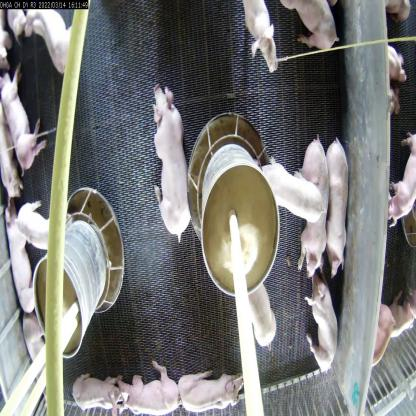Pig: (145, 76, 195, 245), (0, 72, 51, 180), (257, 155, 326, 231), (320, 138, 354, 278), (0, 199, 39, 320), (298, 136, 328, 284), (302, 275, 341, 376), (20, 10, 80, 74), (172, 363, 245, 415), (118, 360, 178, 416), (242, 0, 280, 78), (72, 370, 128, 415), (244, 278, 277, 354), (17, 197, 58, 250)
